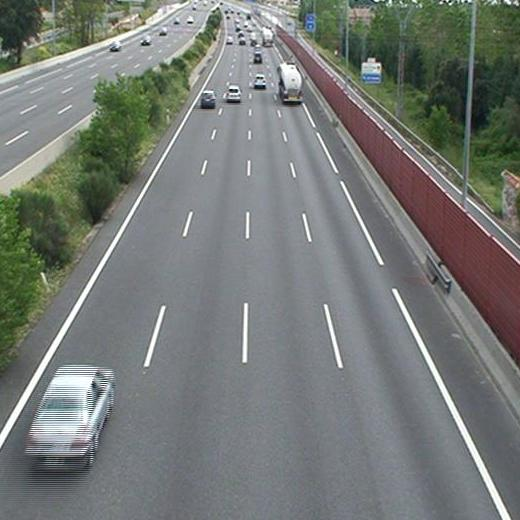car: (27, 365, 114, 461), (200, 90, 216, 105), (226, 86, 240, 100), (253, 74, 266, 87), (253, 52, 263, 63)
tank-truck: (277, 64, 302, 101), (261, 27, 274, 48)
